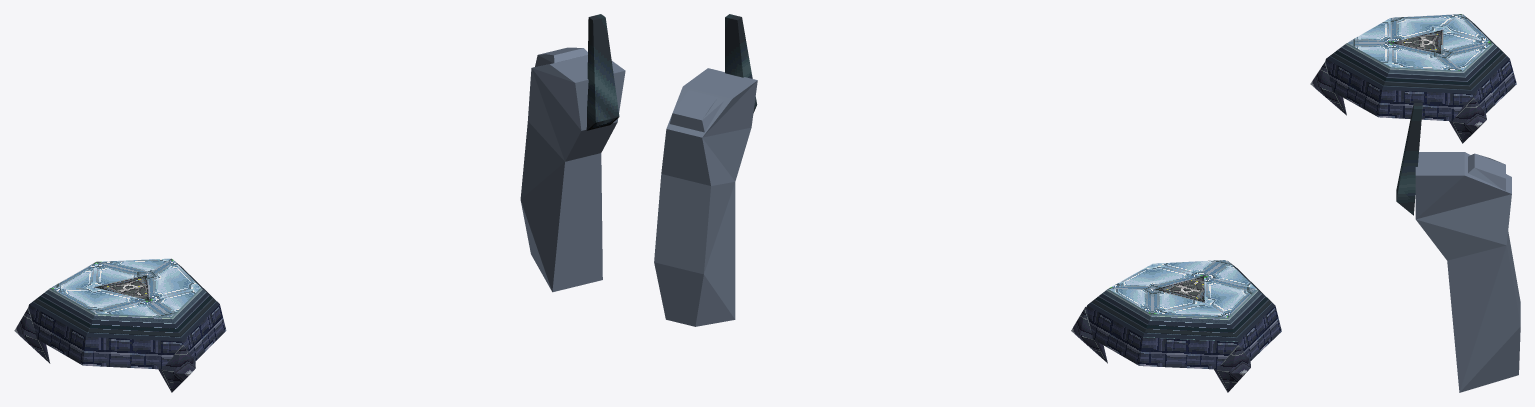
The model's file is 20-remote-mine-fp.glb.
3 views of the same model, side by side, from view 1: azimuth 30°, elevation 25°; view 2: azimuth 150°, elevation 25°; view 3: azimuth 270°, elevation 25° (orthographic). The views are drawn at different scales.
Visible parts, largest first — view 1: gun; view 2: gun; view 3: gun.
Boxes of the visible parts, <box> form: gun: <box>14,14,625,392</box>; gun: <box>654,14,1281,392</box>; gun: <box>1310,14,1520,392</box>.
Bounding box in the file's own units: 440 × 208 × 144.
Materials: 7 (7 with a texture image).
